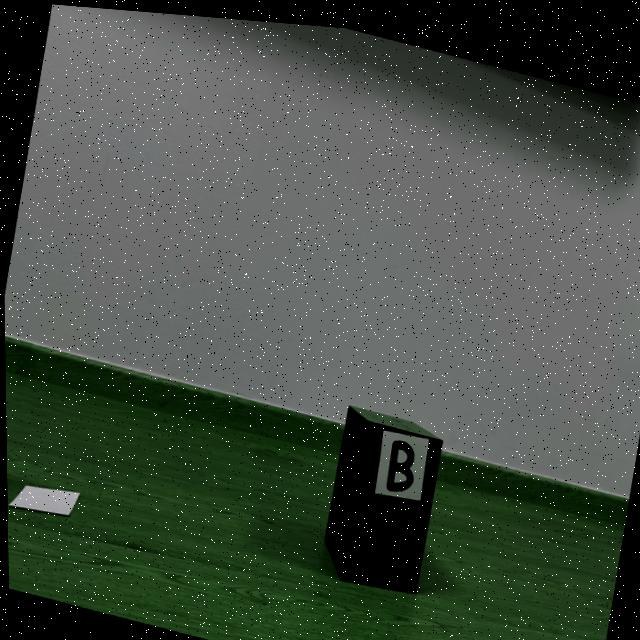B: (384, 433, 412, 485)
